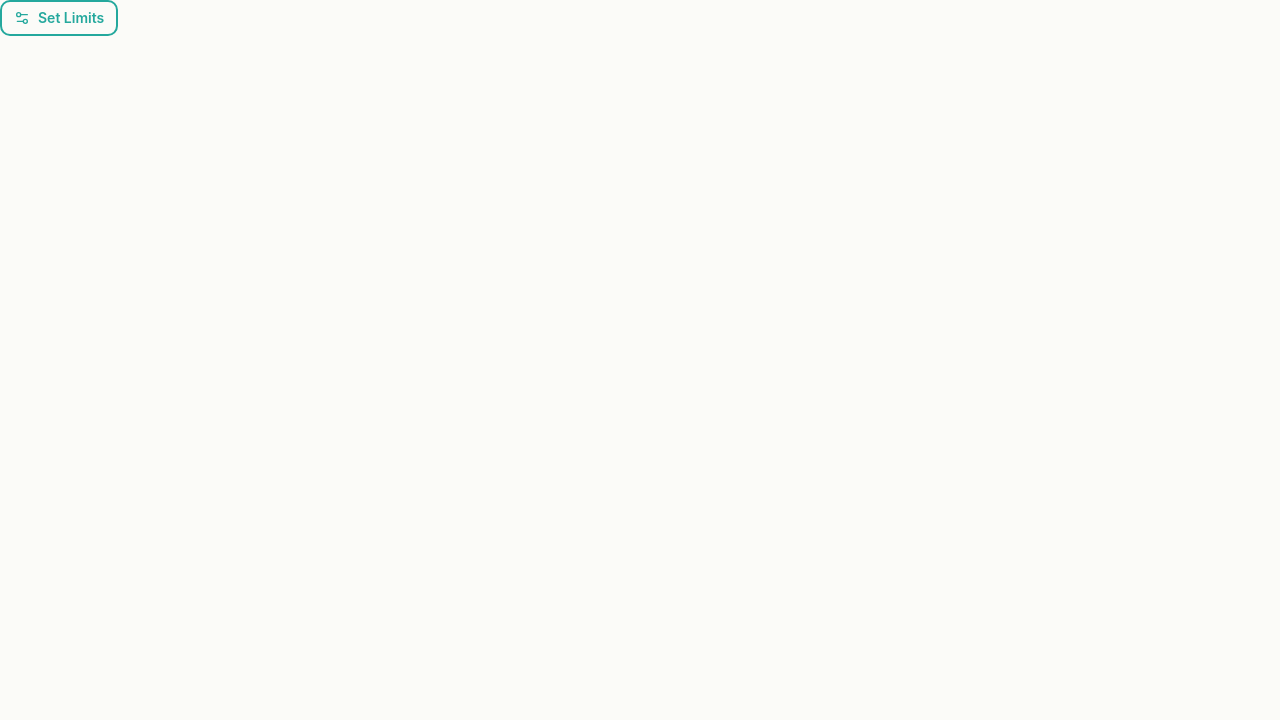
Test: SpendingLimitsDialog › opens dialog and shows kid name in title
What coordinates should you click on to do the following:
click the button "Set Limits"
I would click on:
 (59, 18)
Its box is [0,0,118,36].
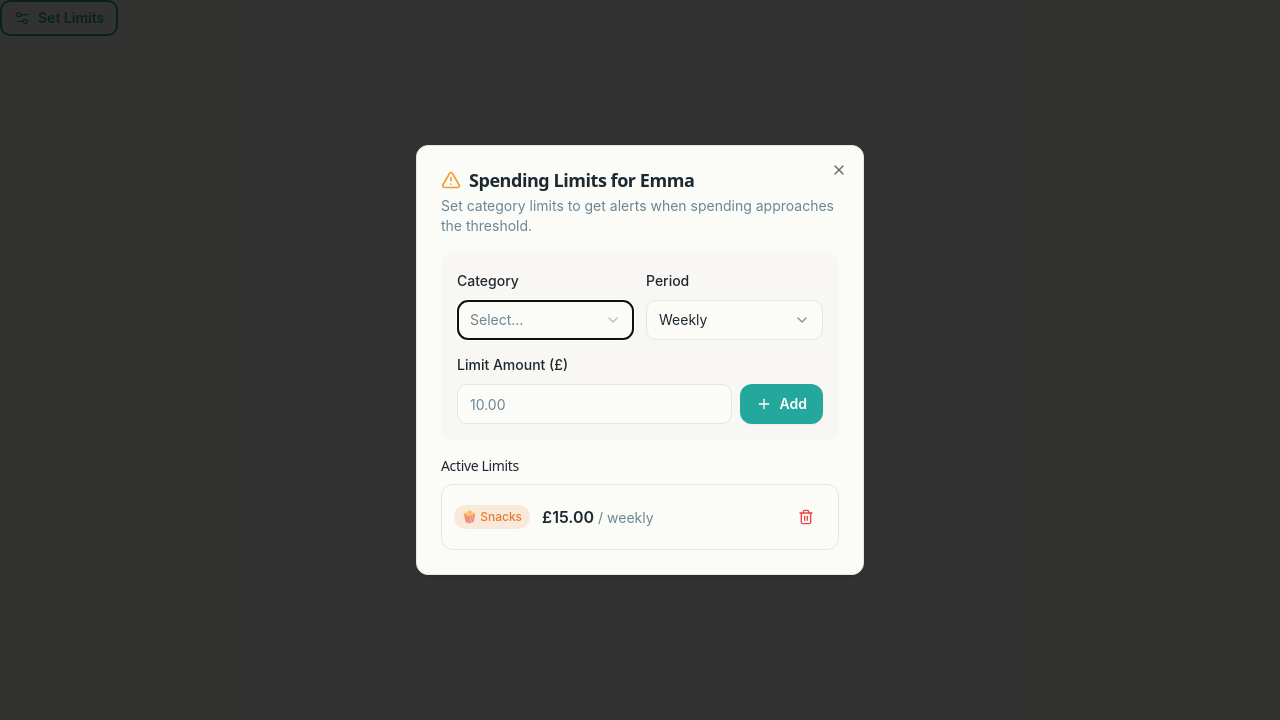
Expected: the heading "Spending Limits for Emma" is shown, [441,168,694,192]
